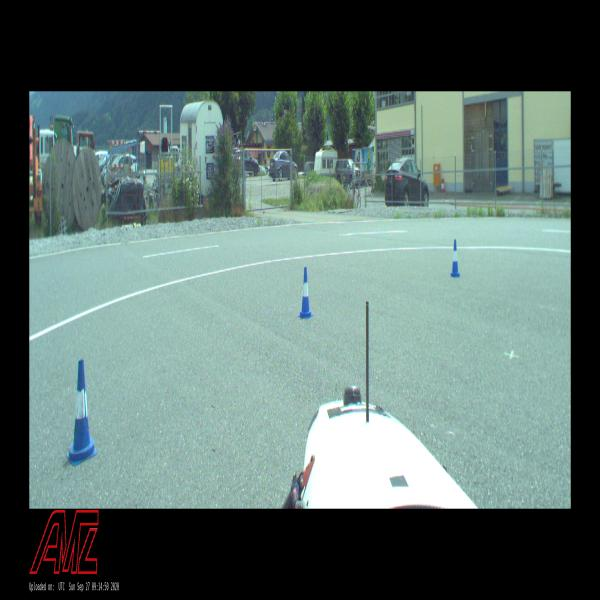blue_cone: (66, 359, 97, 466), (298, 267, 313, 318), (450, 240, 460, 278)
